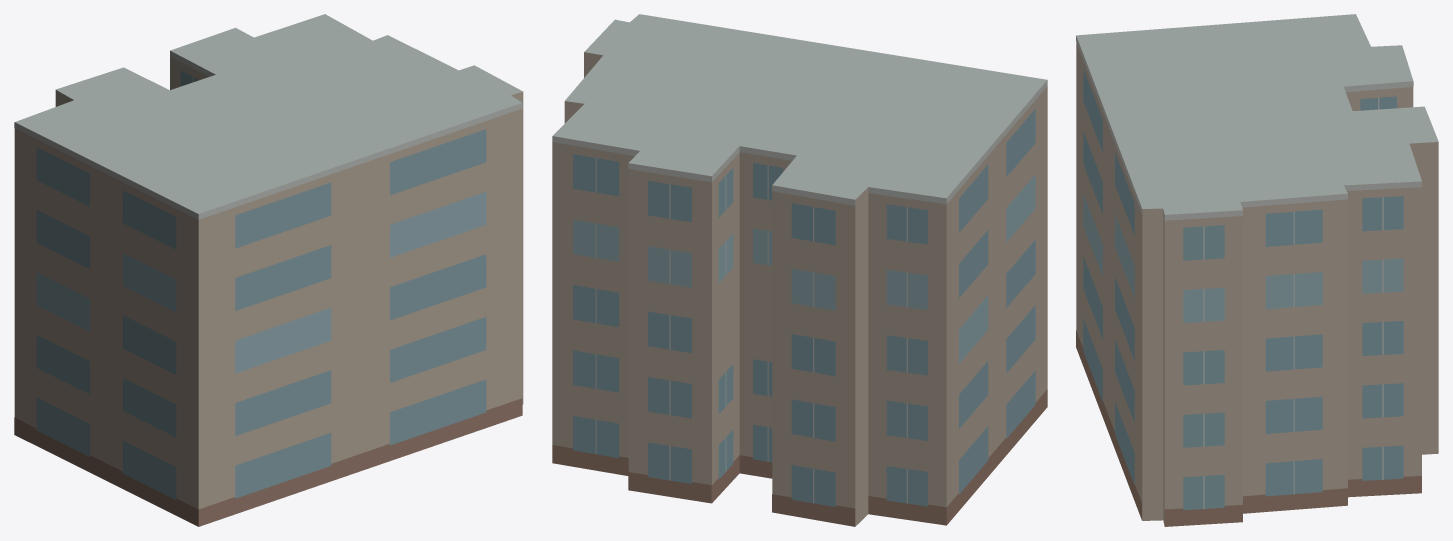
The model's file is survey-upis-32716239.glb.
3 renders of one model, left to right at view 1: azimuth 30°, elevation 25°; view 2: azimuth 150°, elevation 25°; view 3: azimuth 270°, elevation 25°, orthographic. The views are drawn at different scales.
Parts seen in each view (by area): view 1: survey-upis-32716239.tmp; view 2: survey-upis-32716239.tmp; view 3: survey-upis-32716239.tmp.
Boxes of the visible parts, x1,y1,x2,y2 form: survey-upis-32716239.tmp: [14, 14, 523, 526]; survey-upis-32716239.tmp: [552, 14, 1047, 526]; survey-upis-32716239.tmp: [1076, 14, 1438, 526].
Bounding box in the file's own units: 18.32 × 13.25 × 13.97.
